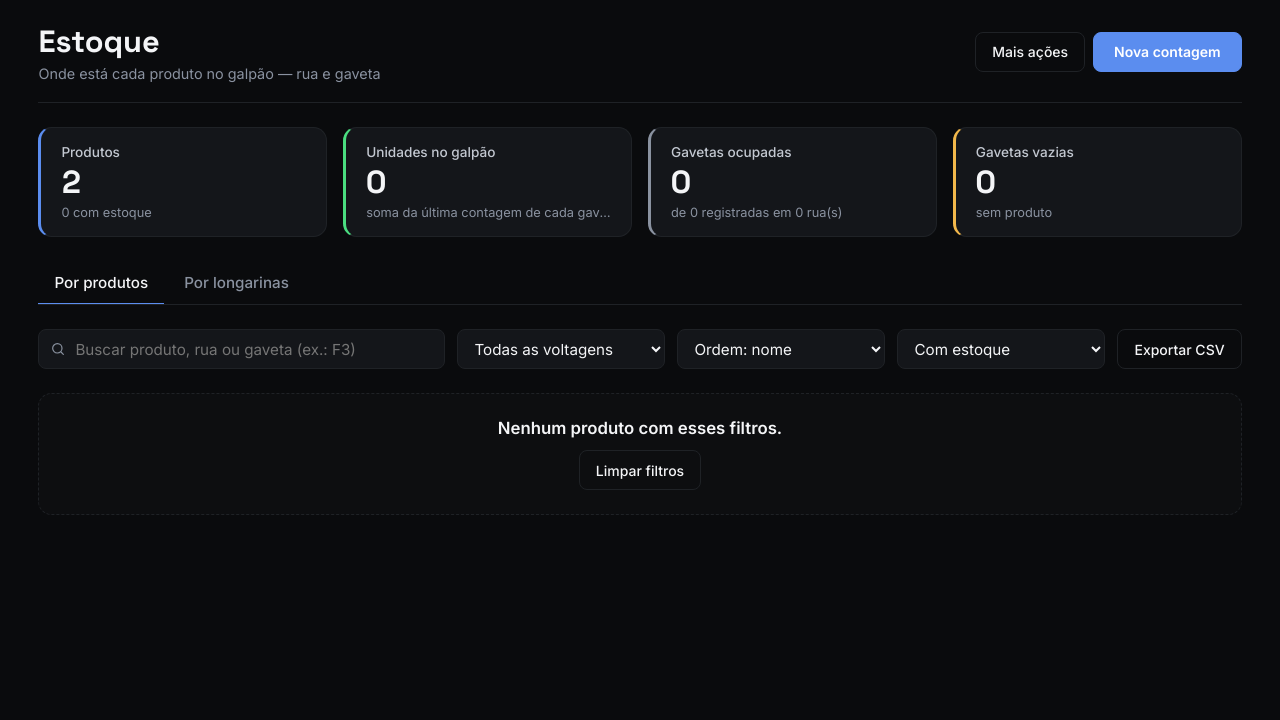
Test: Estoque › filtro de voltagem inclui produtos zerados
The image size is (1280, 720).
Check: the dropdown named "Filtrar por disponibilidade de estoque" shows "Com estoque", box left=897, top=329, right=1105, bottom=369
Select "110V" in the dropdown named "Filtrar por voltagem" at (561, 349), box left=457, top=329, right=665, bottom=369
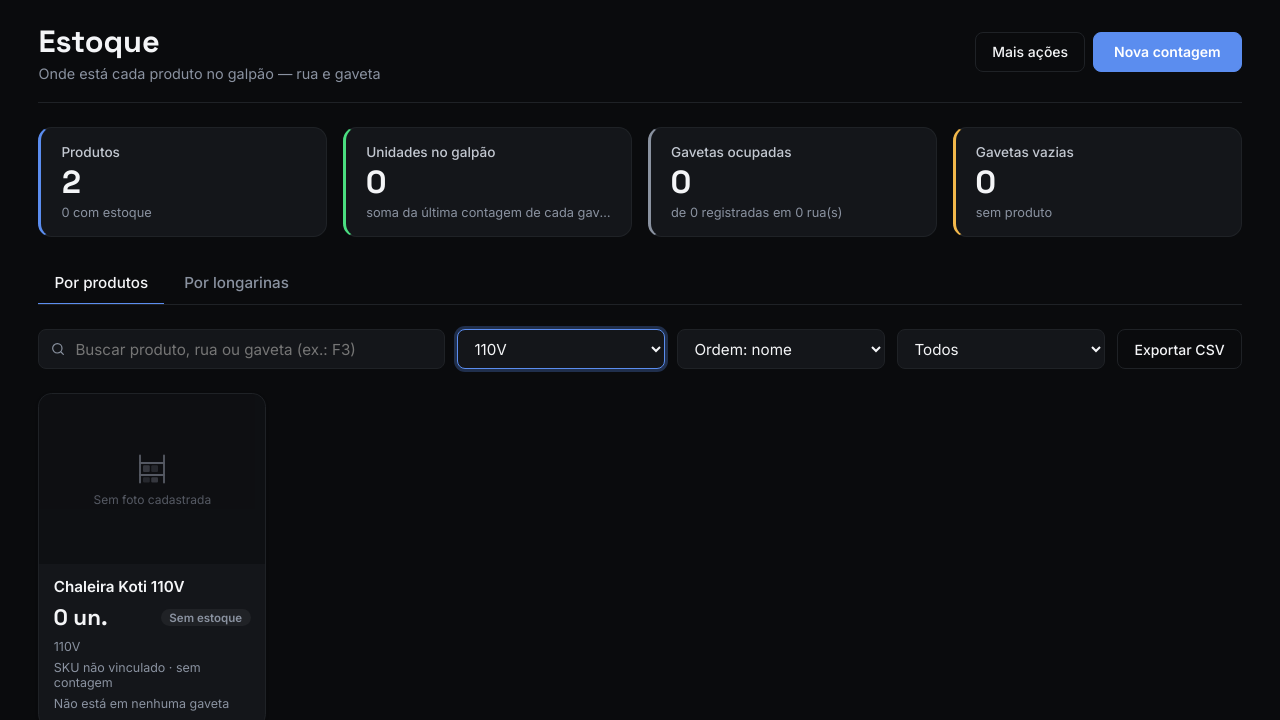
Check: the dropdown named "Filtrar por disponibilidade de estoque" shows "Todos", box left=897, top=329, right=1105, bottom=369
Check: the text "Chaleira Koti 110V" is shown, box left=54, top=577, right=184, bottom=596
